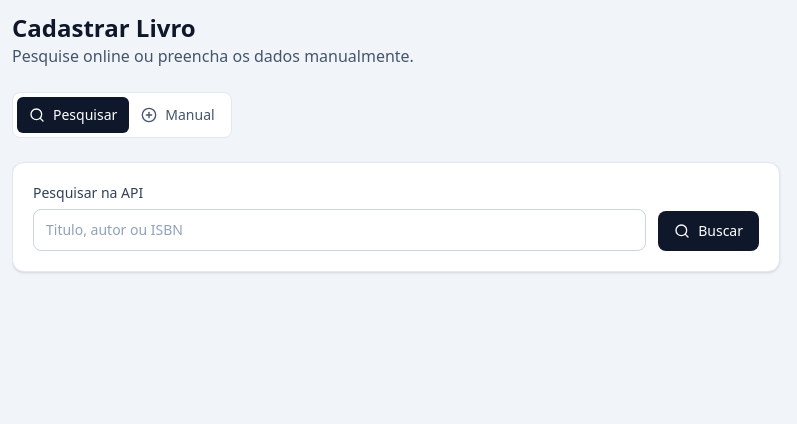
CreateBookPage › shows a clear empty state when the external API returns no books
This screenshot has width=797, height=424.
Type "livro inexistente" into the field labelled "Pesquisar na API" at (340, 230), box [33,209,646,251]
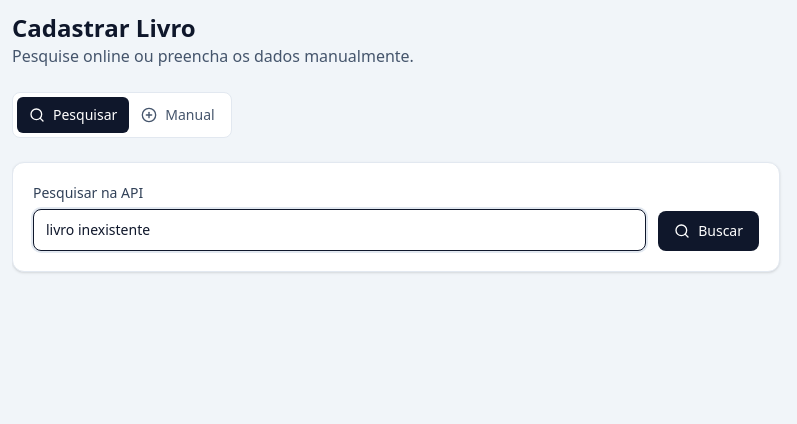
Click the button "Buscar" at (709, 231), box [658,211,759,251]
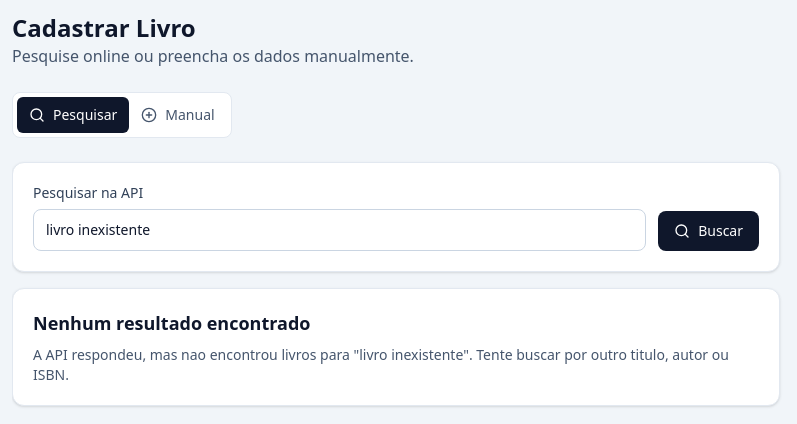
Expected: the heading "Nenhum resultado encontrado" is shown, [33,311,310,335]
Expected: the text "A API respondeu, mas nao encontrou livros" is shown, [33,345,359,364]
